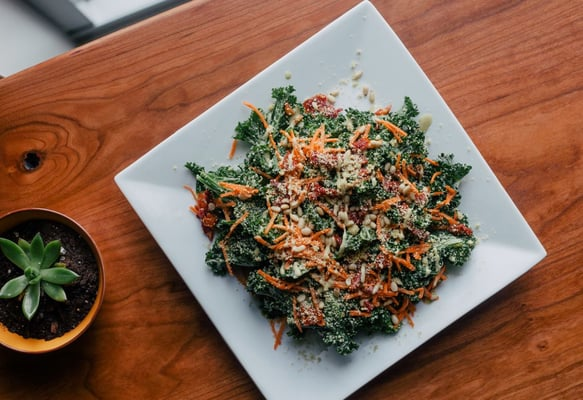sushi: (0, 208, 106, 353)
